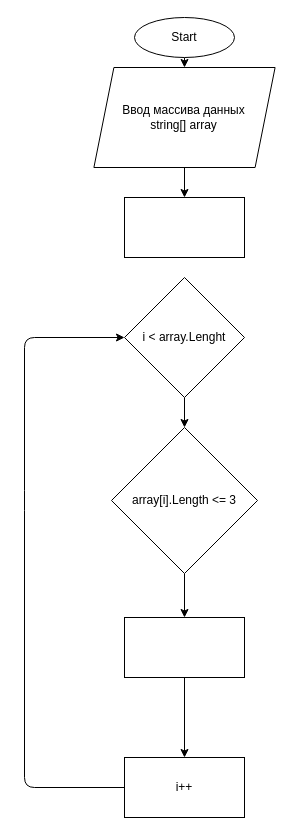
Image size: 293x835. Some labels were removed from this diagram. Here are the shapes that lost their labels. From the top down, the centre of each, then its label:
At (184,227): "создать пустой массив string[] new array".
At (184,647): "new array[i] = array[i]".
